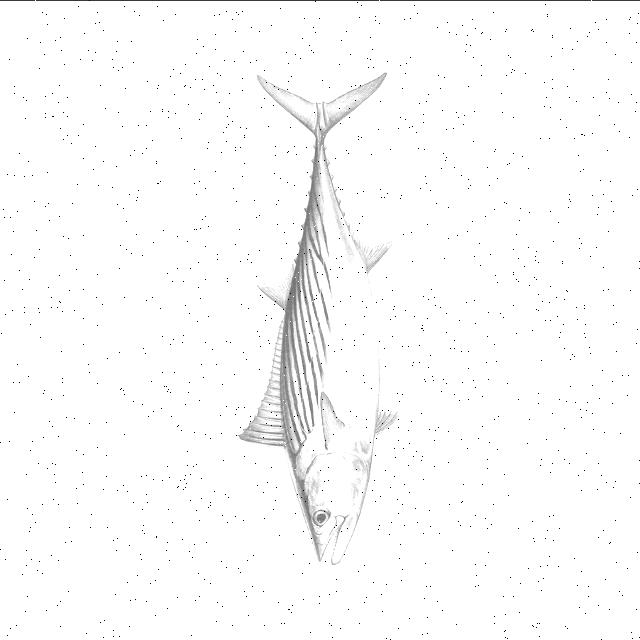Mulut: (308, 510, 370, 576)
Sirip Anal: (352, 218, 408, 272)
Sirip Dada: (306, 386, 358, 446)
Sirip Ekor: (247, 47, 389, 135)
Sirip Perut: (365, 397, 405, 437)
Sirip Punggung: (226, 243, 288, 454)
